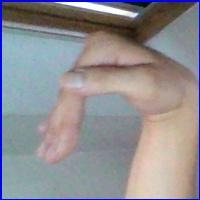del: (22, 28, 188, 177)
